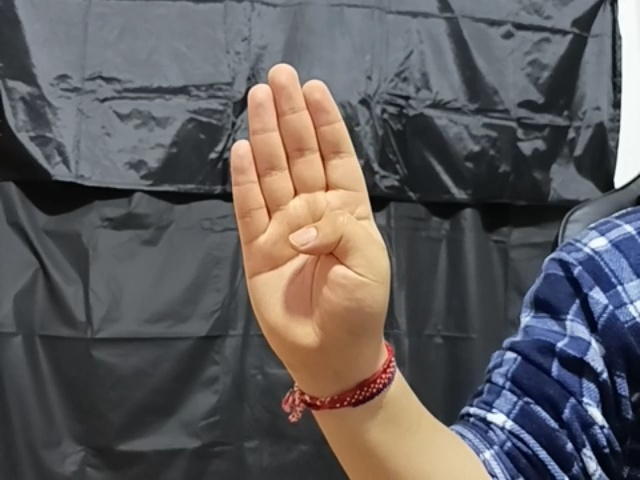B: (224, 59, 405, 363)
